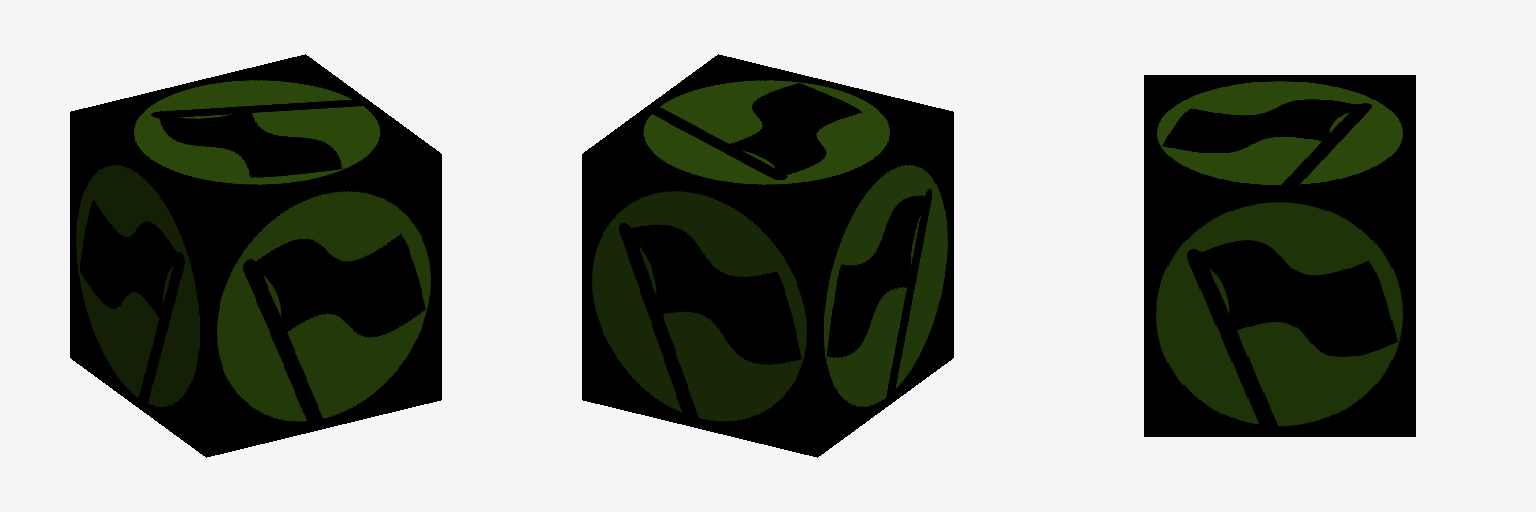
The picture shows the model from 3 angles: view 1: azimuth 30°, elevation 25°; view 2: azimuth 150°, elevation 25°; view 3: azimuth 270°, elevation 25°; orthographic projection.
Parts seen in each view (by area): view 1: Cube.001; view 2: Cube.001; view 3: Cube.001.
Part boxes in pixels (x1,y1,x2,y2): Cube.001: (70, 54, 441, 457); Cube.001: (582, 54, 953, 457); Cube.001: (1144, 75, 1415, 436).
Bounding box in the file's own units: 2 × 2 × 2.
1 materials, 1 textured.